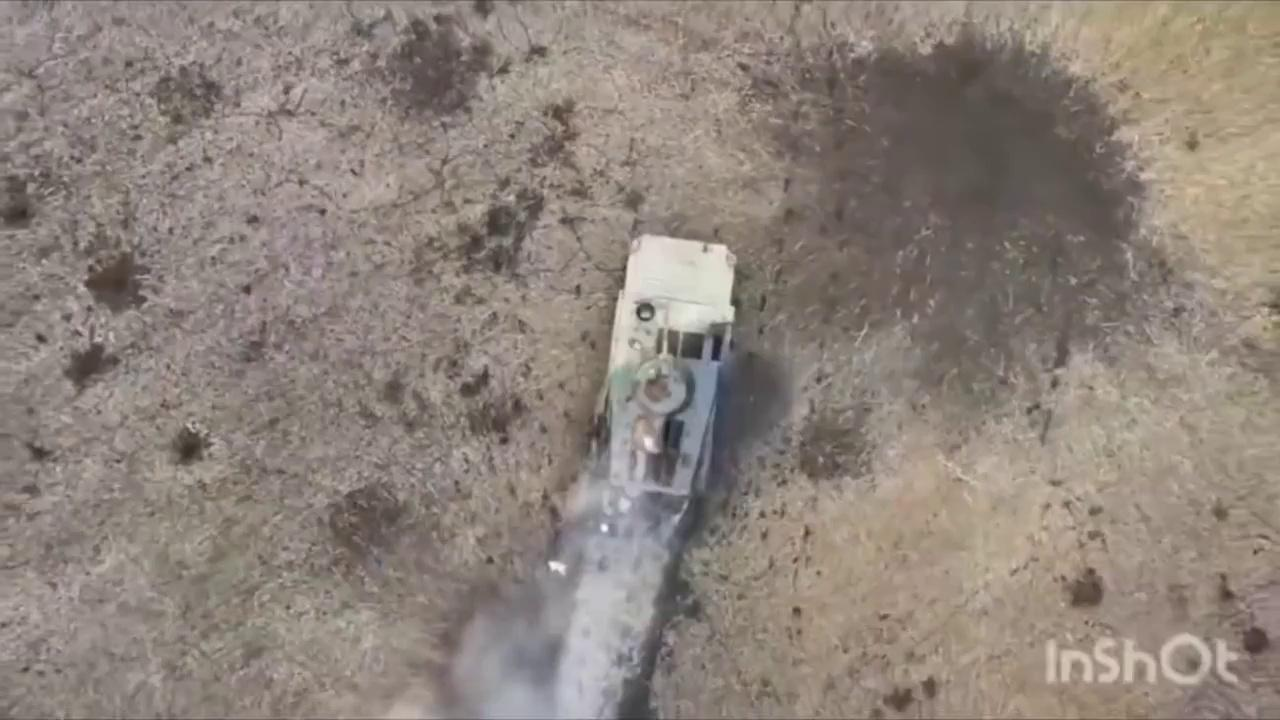vehicle: (588, 237, 738, 519)
